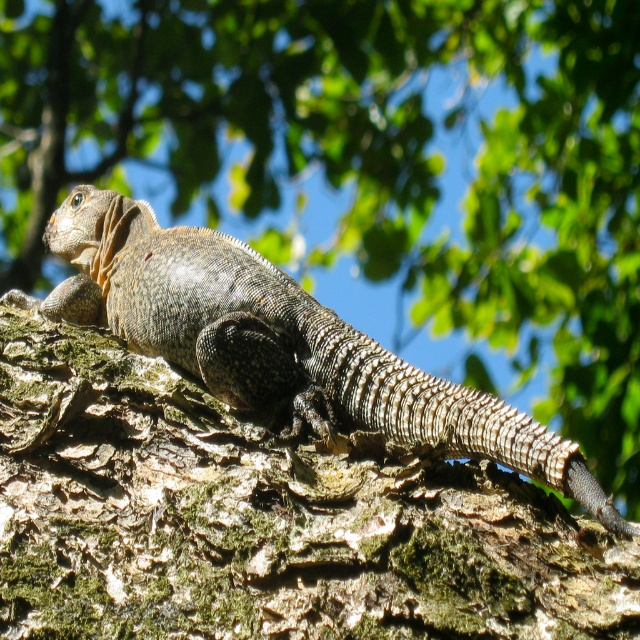Lizard: (59, 172, 622, 556)
